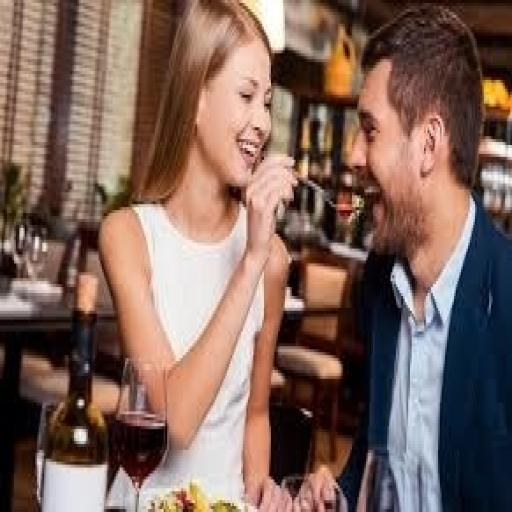eating: (93, 0, 510, 509)
